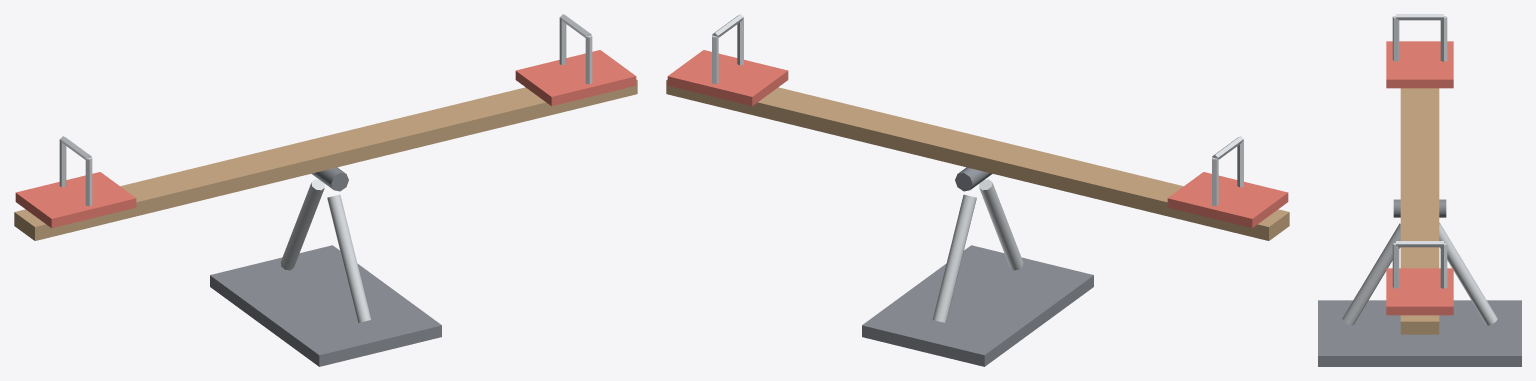
Rendered from Seesaw.fbx.
3 renders of one model, left to right at view 1: azimuth 30°, elevation 25°; view 2: azimuth 150°, elevation 25°; view 3: azimuth 270°, elevation 25°, orthographic. The views are drawn at different scales.
Parts seen in each view (by area): view 1: LOD0; view 2: LOD0; view 3: LOD0.
Part boxes in pixels (x1,y1,x2,y2): LOD0: (14,14,637,366); LOD0: (666,14,1289,366); LOD0: (1318,14,1521,366).
Size of what is drawn, in the model's own units: 270 by 97.4 by 85.
